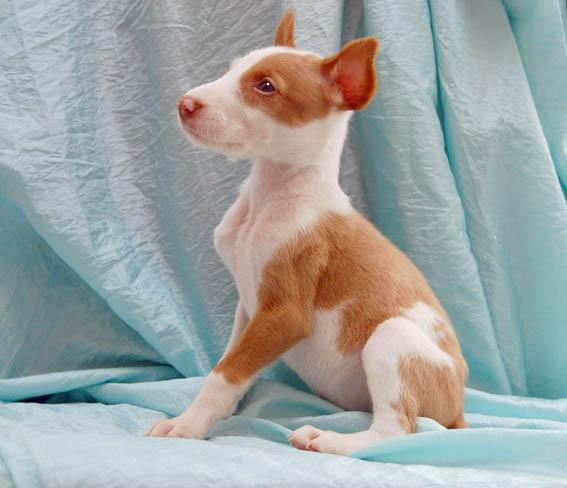Ibizan_hound: (144, 9, 469, 455)
